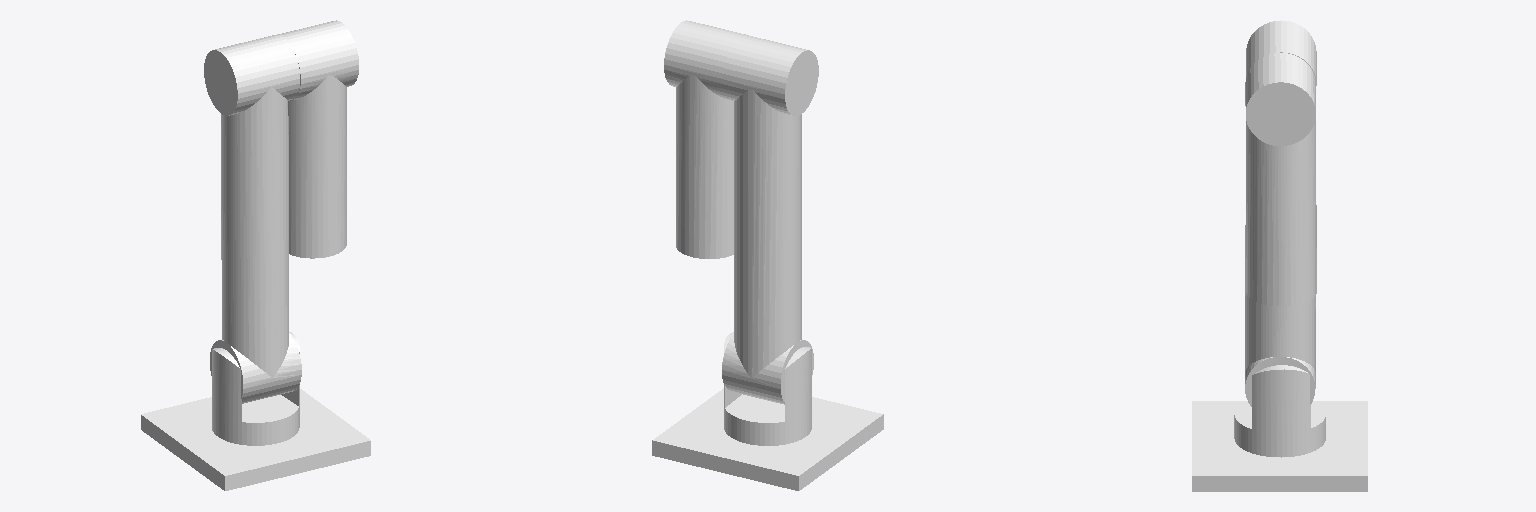
The robot description file, URDF, robot "arm":
<?xml version="1.0"?>
<robot name="arm">

  <link name="base_link"/>

  <link name="first_base">
    <visual>
      <geometry>
        <mesh filename="package://arm_controller/meshs/first-base.stl"/>
      </geometry>
      <origin xyz="0 0 0"/>
      <material name="black">
        <color rgba="1.61 1.86 2.26 2.0"/>
      </material>
    </visual>
  </link>

  <link name="second_base">
    <visual>
      <geometry>
        <mesh filename="package://arm_controller/meshs/second-base.stl"/>
      </geometry>
      <origin xyz = "0 0 0" rpy="0 0 0.2"/>
      <material name="black">
        <color rgba="1.61 1.86 226 2.0"/>
      </material>
    </visual>
  </link>

  <link name="first_arm">
    <visual>
      <geometry>
        <mesh filename="package://arm_controller/meshs/first-arm.stl"/>
      </geometry>
      <origin xyz = "0 0 0" rpy="0.17 -0.03 0.16"/>
      <material name="black">
        <color rgba="161 186 226 2.0"/>
      </material>
    </visual>
  </link>

  <link name="second_arm">
    <visual>
      <geometry>
        <mesh filename="package://arm_controller/meshs/second-arm.stl"/>
      </geometry>
      <origin xyz = "0.04 0 0" rpy="1.57 3.14 0"/>
      <material name="black">
        <color rgba="161 186 226 2.0"/>
      </material>
    </visual>
  </link>

  <joint name="base_joint" type="fixed">
    <parent link="base_link"/>
    <child link="first_base"/>
  </joint>

  <joint name="first_joint" type="revolute">
    <axis xyz="0 0 1"/>
    <origin xyz = "0 0 0" />
    <parent link="first_base"/>
    <child link="second_base"/>
    <limit effort="100" lower="-1.57" upper="1.57" velocity="100.0"/>
  </joint>

  <joint name="second_joint" type="revolute">
    <axis xyz="1 0 0"/>
    <origin xyz = "0 0 0.05" />
    <parent link="second_base"/>
    <child link="first_arm"/>
    <limit effort="100" lower="-1.57" upper="1.57" velocity="100.0"/>
  </joint>

  <joint name="third_joint" type="revolute">
    <axis xyz="1 0 0"/>
    <origin xyz = "0 0 0.19" />
    <parent link="first_arm"/>
    <child link="second_arm"/>
    <limit effort="100" lower="-1.57" upper="1.57" velocity="100.0"/>
  </joint>

</robot>

--- Facts derived from the render (not from the file) ---
Views: 3 orthographic renders of the robot side by side, from view 1: azimuth 30°, elevation 25°; view 2: azimuth 150°, elevation 25°; view 3: azimuth 270°, elevation 25°.
Model arm with 5 links and 4 joints (3 revolute, 1 fixed), rooted at base_link, posed every joint at zero.
Links seen in each view (by area): view 1: first_arm, second_arm, first_base, second_base; view 2: first_arm, second_arm, first_base, second_base; view 3: second_arm, first_base, first_arm, second_base.
Boxes of the visible links, x1,y1,x2,y2 form: first_arm: [204, 34, 301, 403]; second_arm: [279, 20, 358, 258]; first_base: [141, 389, 370, 490]; second_base: [212, 332, 299, 445]; first_arm: [722, 35, 818, 404]; second_arm: [664, 20, 745, 258]; first_base: [652, 388, 883, 490]; second_base: [724, 332, 811, 445]; second_arm: [1245, 53, 1316, 305]; first_base: [1192, 401, 1367, 491]; first_arm: [1245, 20, 1316, 406]; second_base: [1234, 365, 1325, 457].
Size in the robot's own frame: 0.1095 by 0.1 by 0.2602 metres.
Meshes: 4 distinct files referenced, 4 mesh visuals loaded (4 binary STL).